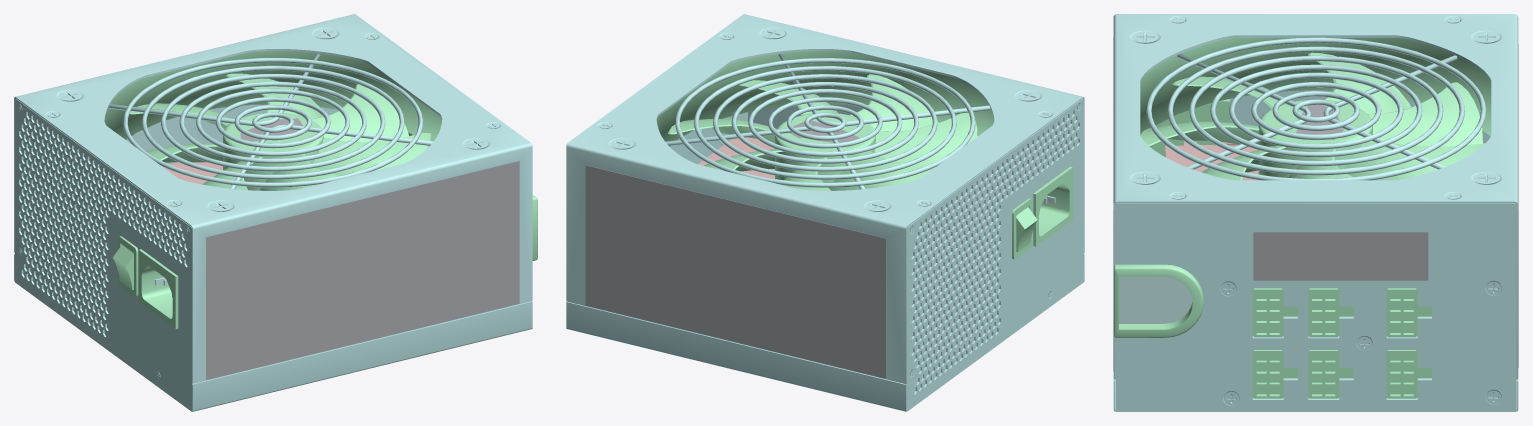
File: Kcac.fbx
3 views of the same model, side by side, from view 1: azimuth 30°, elevation 25°; view 2: azimuth 150°, elevation 25°; view 3: azimuth 270°, elevation 25° (orthographic). The views are drawn at different scales.
Parts seen in each view (by area): view 1: kcas; view 2: kcas; view 3: kcas.
Part boxes in pixels (<box>): kcas: <box>14,14,537,411</box>; kcas: <box>566,14,1084,411</box>; kcas: <box>1113,14,1518,411</box>.
Size of the model in its own units: 780 by 390 by 680.
